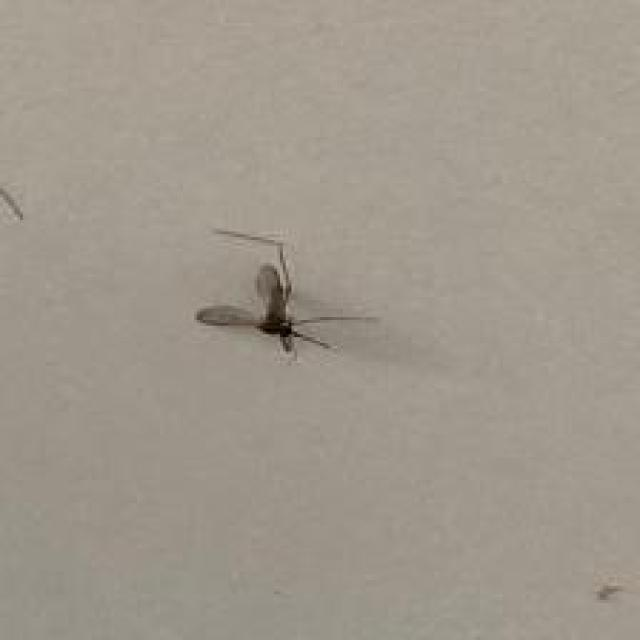Culex: (194, 227, 380, 362)
